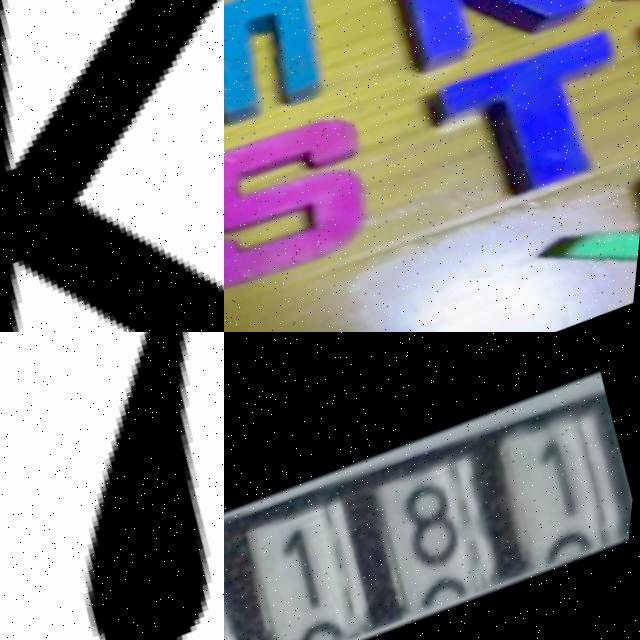1: (261, 511, 361, 635), (515, 423, 613, 536)
7: (0, 332, 224, 640)
8: (385, 471, 482, 584)
K: (0, 0, 224, 332)
M: (224, 0, 340, 150)
N: (373, 0, 611, 86)
S: (224, 100, 394, 298)
T: (425, 28, 640, 222)
